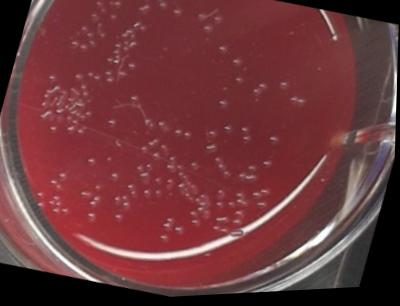pdpiscicida: (288, 95, 308, 113), (251, 82, 269, 102), (201, 23, 217, 39), (170, 6, 186, 22), (234, 74, 249, 90), (210, 14, 225, 30), (195, 11, 210, 26), (230, 57, 244, 72), (216, 45, 231, 59), (245, 174, 260, 188), (278, 81, 292, 95), (216, 99, 230, 113), (108, 170, 122, 184), (268, 135, 282, 148), (262, 160, 276, 173), (86, 155, 99, 169), (207, 129, 219, 142), (242, 135, 254, 148), (247, 164, 259, 177), (240, 126, 252, 138), (223, 125, 235, 137)
